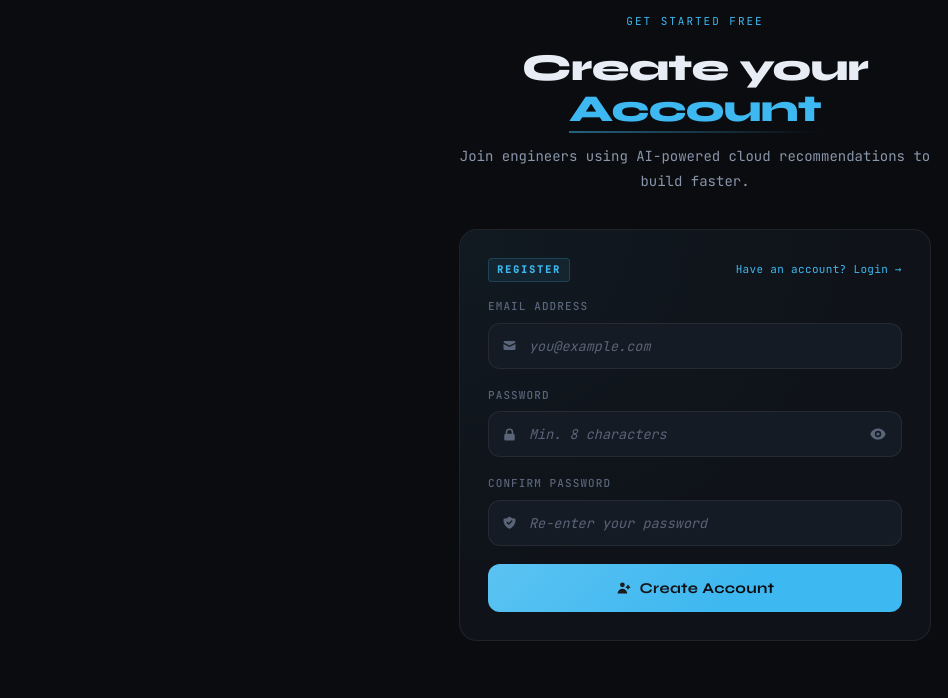
Test case: shows conflict message for an existing account
Type "alice@example.com" into the field labelled "Email Address". click: (695,346)
box: [488,323,902,369]
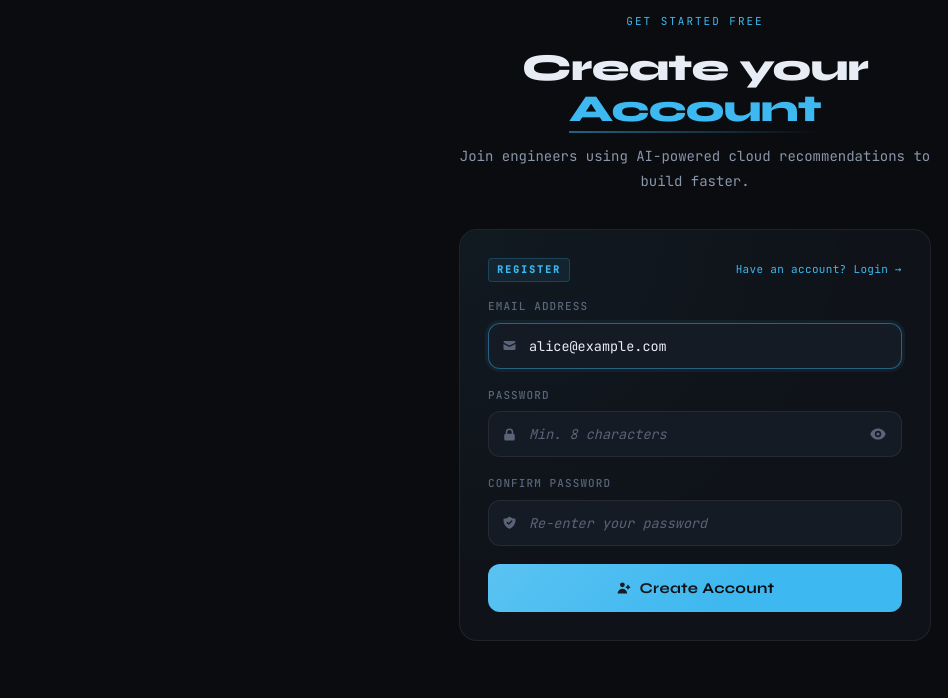
Type "secret123" into the password field labelled "Password". click: (695,434)
box: [488,411,902,457]
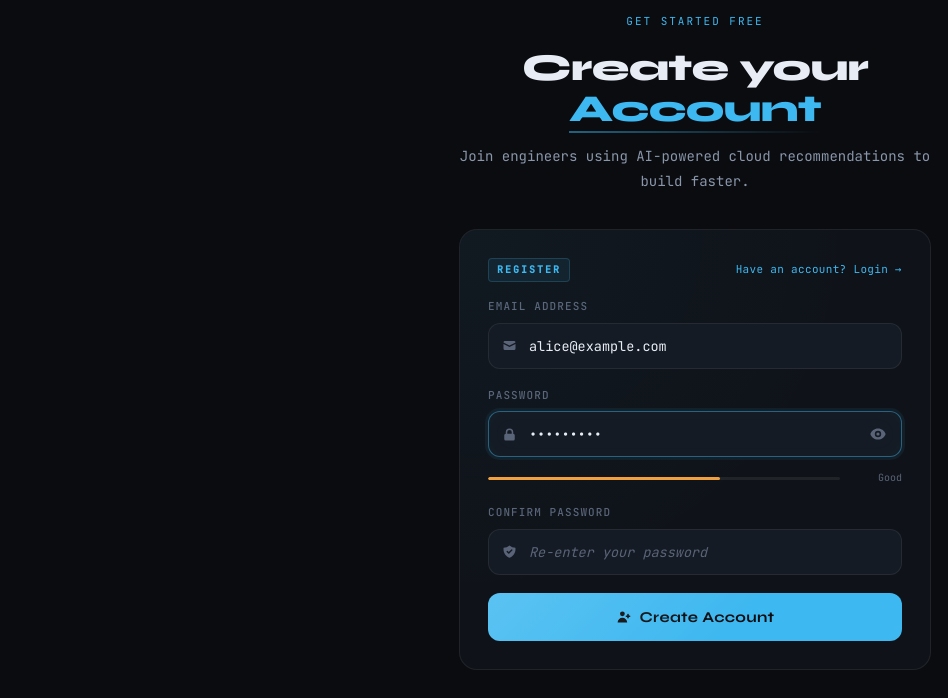
Type "secret123" into the password field labelled "Confirm Password". click: (695,552)
box: [488,529,902,575]
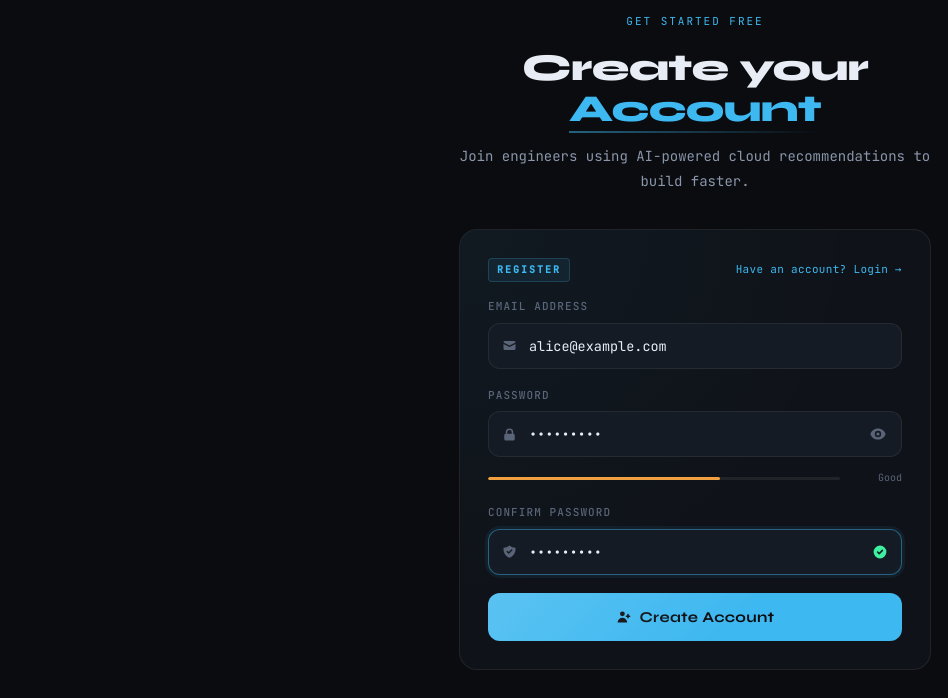
Click the button "Create Account". click: (695,617)
box: [488,593,902,641]
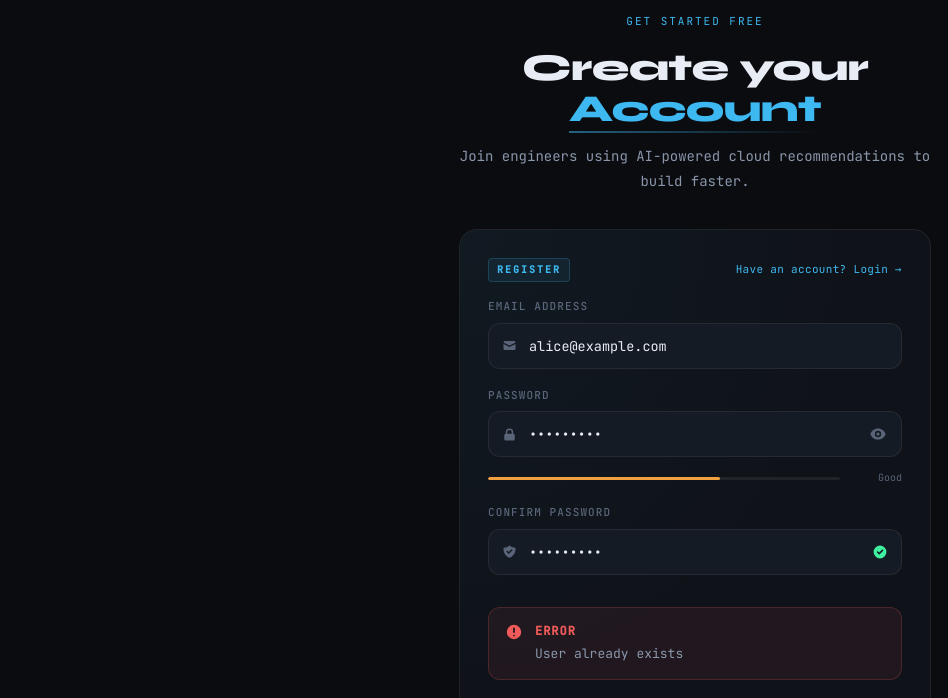
Now the text "User already exists" is shown, box [535,644,683,665]
